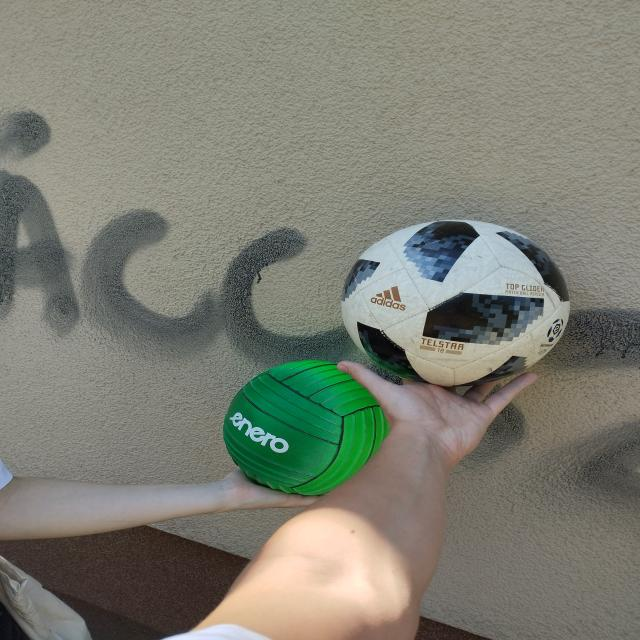nozna: (338, 218, 571, 387)
zielona: (223, 360, 390, 496)
